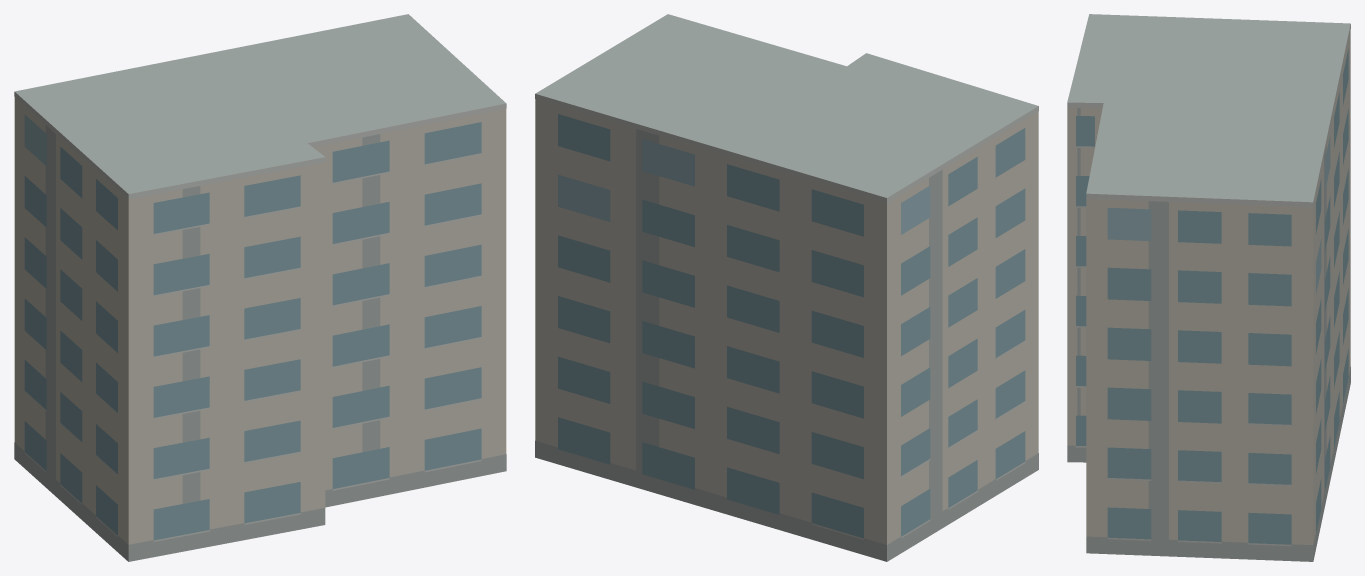
Rendered from survey-upis-32826892.glb.
The picture shows the model from 3 angles, left to right: view 1: azimuth 30°, elevation 25°; view 2: azimuth 150°, elevation 25°; view 3: azimuth 270°, elevation 25°; orthographic projection. The views are drawn at different scales.
Visible parts, largest first — view 1: survey-upis-32826892.tmp; view 2: survey-upis-32826892.tmp; view 3: survey-upis-32826892.tmp.
Boxes of the visible parts, x1=… form: survey-upis-32826892.tmp: x1=14, y1=14, x2=506, y2=561; survey-upis-32826892.tmp: x1=535, y1=14, x2=1038, y2=561; survey-upis-32826892.tmp: x1=1067, y1=14, x2=1350, y2=561.
Size of the model in its own units: 19.21 by 17.1 by 12.23.
